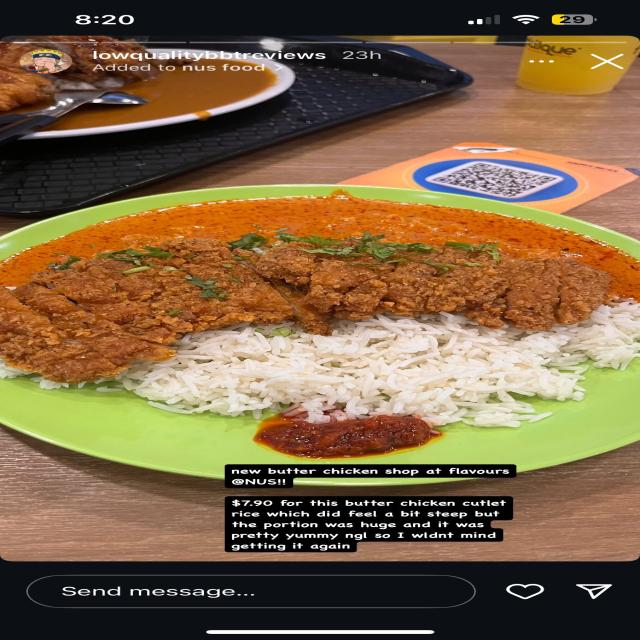Chicken: (0, 238, 612, 383), (341, 239, 359, 247)
Rice: (94, 300, 639, 427), (31, 377, 69, 390), (0, 362, 29, 378)
